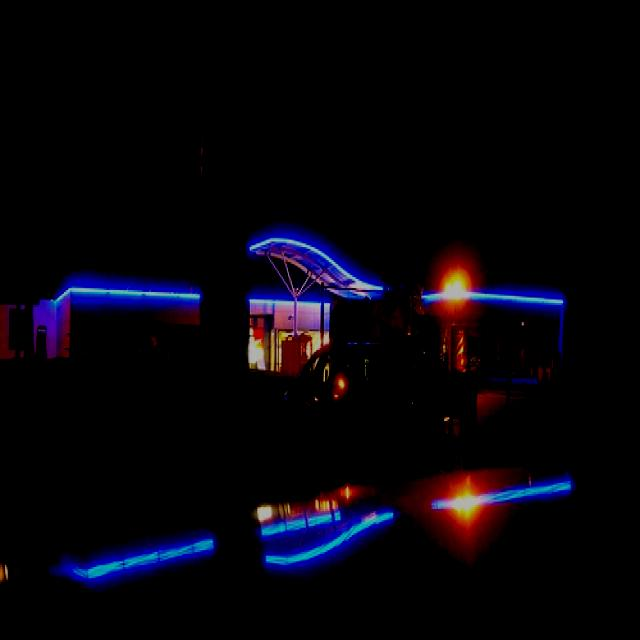Car: (280, 340, 446, 480)
